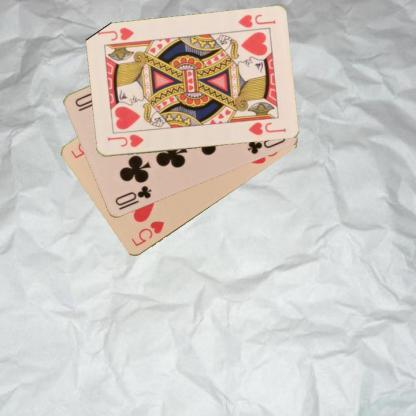10c: (112, 183, 153, 208)
5h: (129, 218, 165, 248)
Jh: (235, 12, 277, 30), (104, 132, 144, 149)
